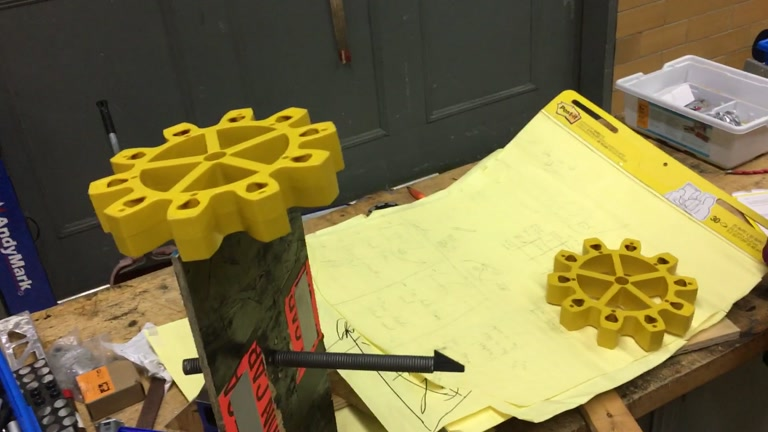gear: (87, 105, 347, 262), (544, 238, 699, 353)
